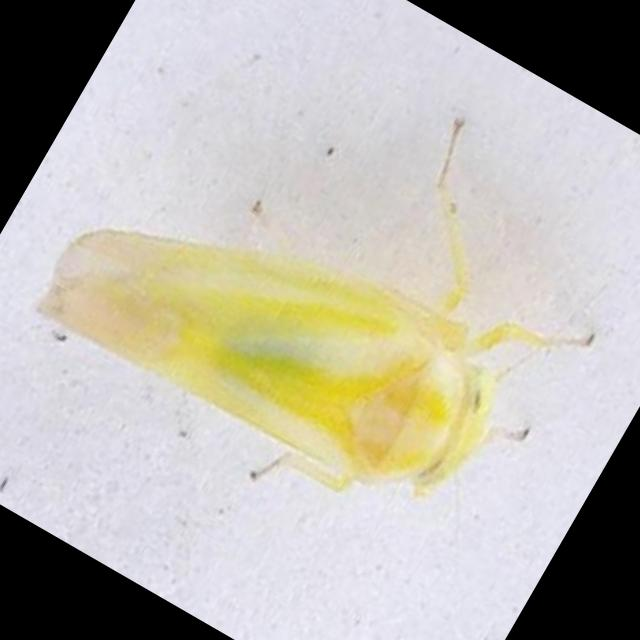green-leafhopper: (38, 119, 598, 497)
